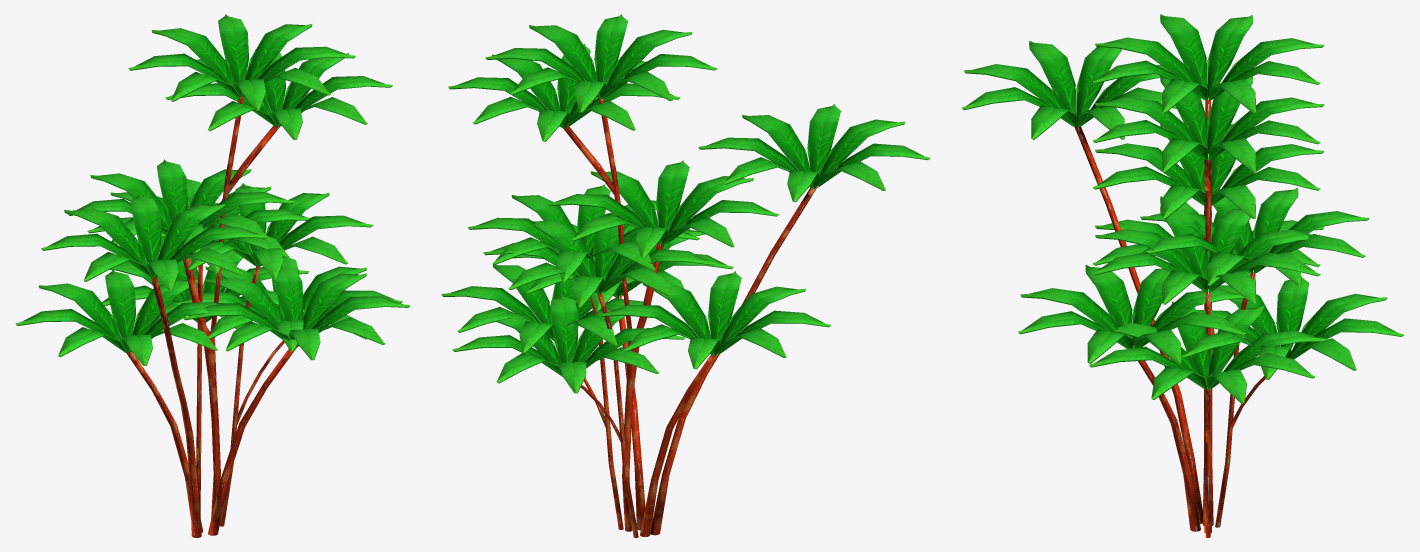
File: PalmeiraPequena.dae
3 renders of one model, left to right at view 1: azimuth 30°, elevation 25°; view 2: azimuth 150°, elevation 25°; view 3: azimuth 270°, elevation 25°, orthographic. The views are drawn at different scales.
Parts seen in each view (by area): view 1: Cilindro.012; view 2: Cilindro.012; view 3: Cilindro.012.
Boxes of the visible parts, x1,y1,x2,y2 form: Cilindro.012: (15,14,410,537); Cilindro.012: (441,14,930,537); Cilindro.012: (962,14,1404,537).
Size of the model in its own units: 2.48 by 2.34 by 2.85.
